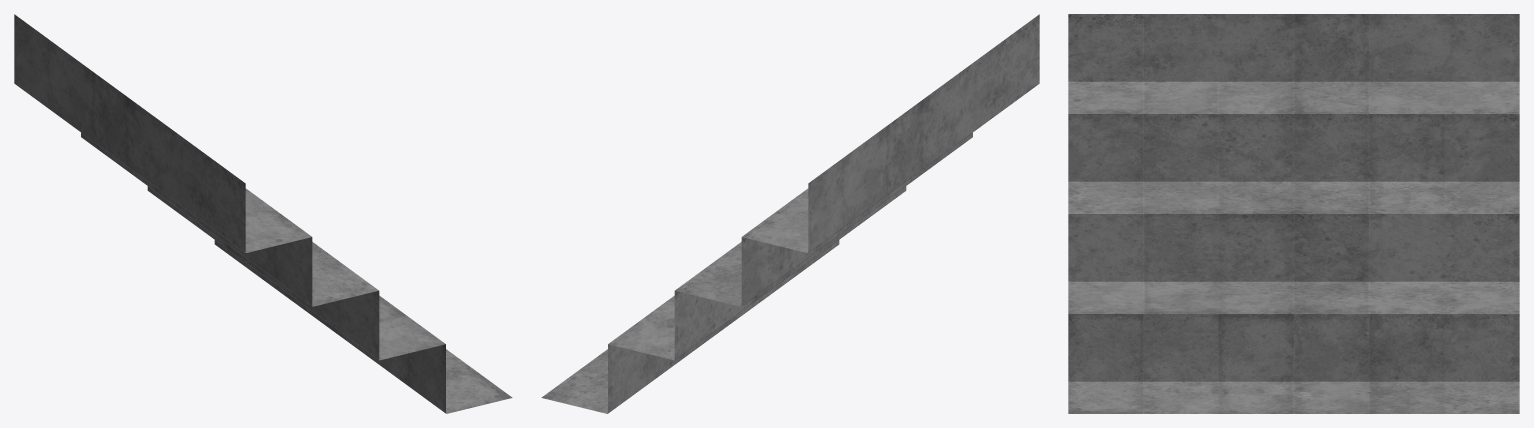
The model's file is SM_Ceiling_12.fbx.
The picture shows the model from 3 angles, left to right: view 1: azimuth 30°, elevation 25°; view 2: azimuth 150°, elevation 25°; view 3: azimuth 270°, elevation 25°; orthographic projection. The views are drawn at different scales.
Visible parts, largest first — view 1: SM_Ceiling_12; view 2: SM_Ceiling_12; view 3: SM_Ceiling_12.
Boxes of the visible parts, <box> form: SM_Ceiling_12: <box>14,14,512,413</box>; SM_Ceiling_12: <box>541,14,1039,413</box>; SM_Ceiling_12: <box>1068,14,1519,413</box>.
Bounding box in the file's own units: 400 × 400 × 600.
